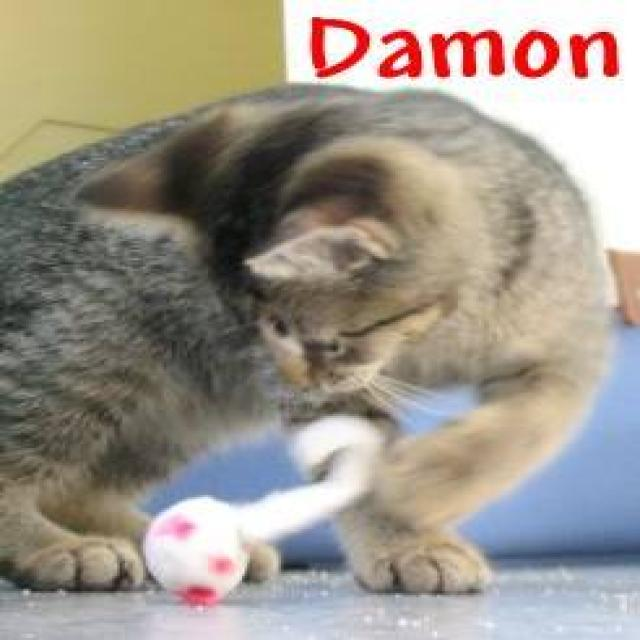cat: (70, 81, 619, 595)
